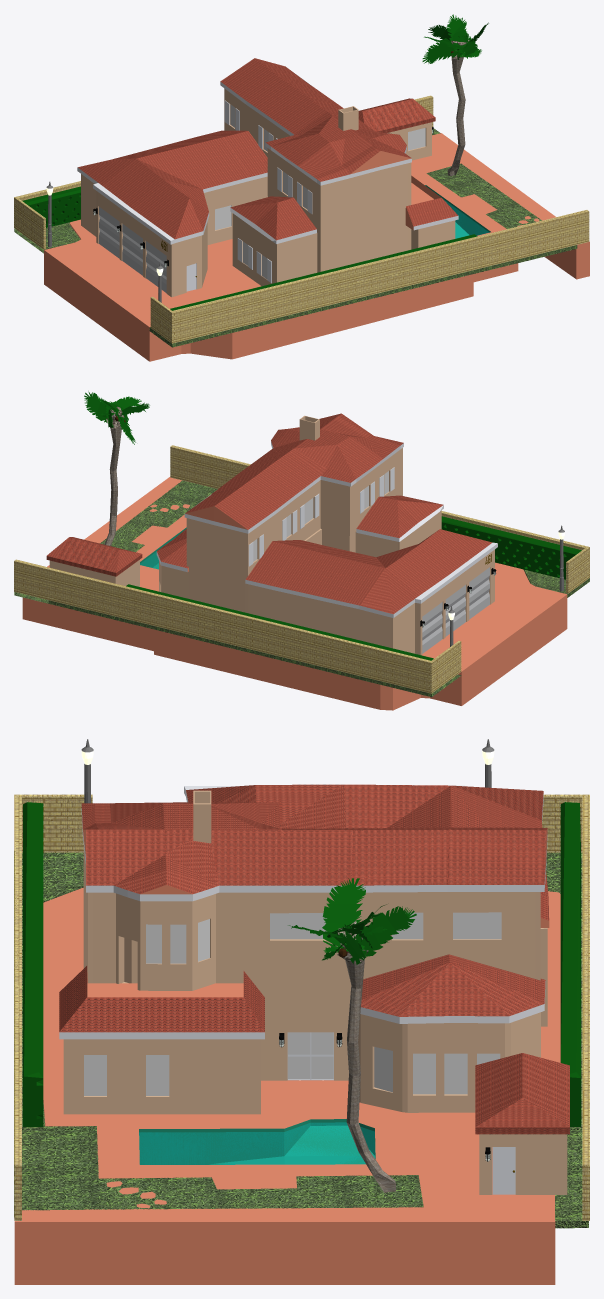
Rendered from 461 Ocean Blvd.glb.
3 views of the same model, one above another, from view 1: azimuth 30°, elevation 25°; view 2: azimuth 150°, elevation 25°; view 3: azimuth 270°, elevation 25° (orthographic). The views are drawn at different scales.
Visible parts, largest first — view 1: Ground, Walls, 1st Floor Roof.001, Ext Walls, 2nd Floor Roof, Ext Walls.001, Grass, Shrub, Garage Doors, Beach House ROof, Branches, 1st floor Balcony (+7 smaller); view 2: Ground, Walls, 1st Floor Roof.001, 2nd Floor Roof, Ext Walls, Ext Walls.001, Grass, Shrub, Garage Doors, Beach House ROof, Branches, Shutters (+6 smaller); view 3: Ground, Ext Walls, 2nd Floor Roof, Grass, 1st Floor Roof.001, Shrub, 1st floor Balcony, Walls, Windows, 1st Floor Roof, Pool Water, Beach House ROof (+7 smaller).
Part boxes in pixels (x1,y1,x2,y2): Ground: (44, 133, 589, 361); Walls: (14, 95, 589, 343); 1st Floor Roof.001: (77, 130, 316, 244); Ext Walls: (224, 88, 455, 271); 2nd Floor Roof: (220, 58, 411, 185); Ext Walls.001: (81, 174, 319, 297); Grass: (14, 128, 577, 347); Shrub: (22, 186, 477, 310); Garage Doors: (99, 207, 166, 292); Beach House ROof: (358, 98, 435, 132); Branches: (422, 14, 488, 63); 1st floor Balcony: (405, 175, 458, 230); Ground: (22, 477, 567, 710); Walls: (14, 445, 589, 693); 1st Floor Roof.001: (245, 495, 497, 617); 2nd Floor Roof: (184, 413, 403, 533); Ext Walls: (159, 448, 402, 612); Ext Walls.001: (245, 510, 494, 655); Grass: (14, 480, 589, 697); Shrub: (126, 516, 581, 660); Garage Doors: (422, 567, 489, 653); Beach House ROof: (46, 537, 142, 576); Branches: (84, 391, 149, 444); Shutters: (248, 467, 394, 566); Ground: (14, 887, 560, 1284); Ext Walls: (63, 845, 540, 1114); 2nd Floor Roof: (81, 802, 547, 901); Grass: (14, 851, 588, 1228); 1st Floor Roof.001: (184, 784, 549, 927); Shrub: (23, 802, 580, 1127); 1st floor Balcony: (59, 966, 264, 1039); Walls: (14, 794, 589, 1220); Windows: (84, 912, 501, 1095); 1st Floor Roof: (360, 954, 545, 1023); Pool Water: (139, 1122, 375, 1164); Beach House ROof: (475, 1053, 569, 1134).
Bounding box in the file's own units: 34.73 × 15.5 × 22.77.
20 materials, 5 textured.
